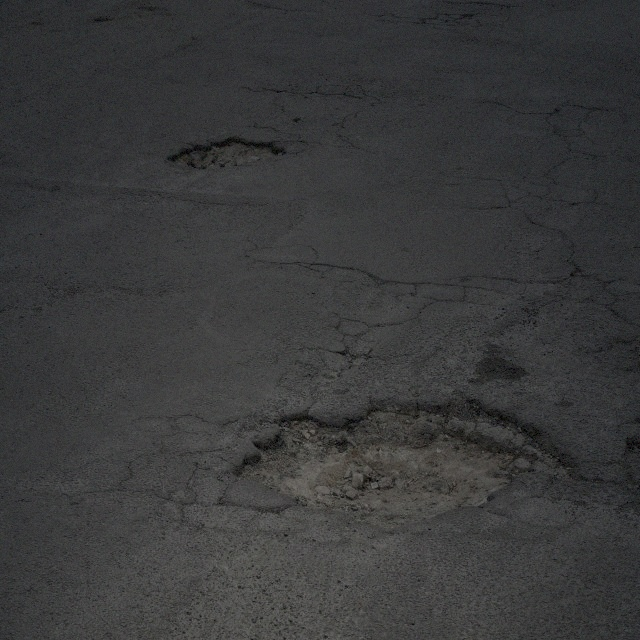pothole: (231, 398, 568, 529), (165, 132, 287, 171)
